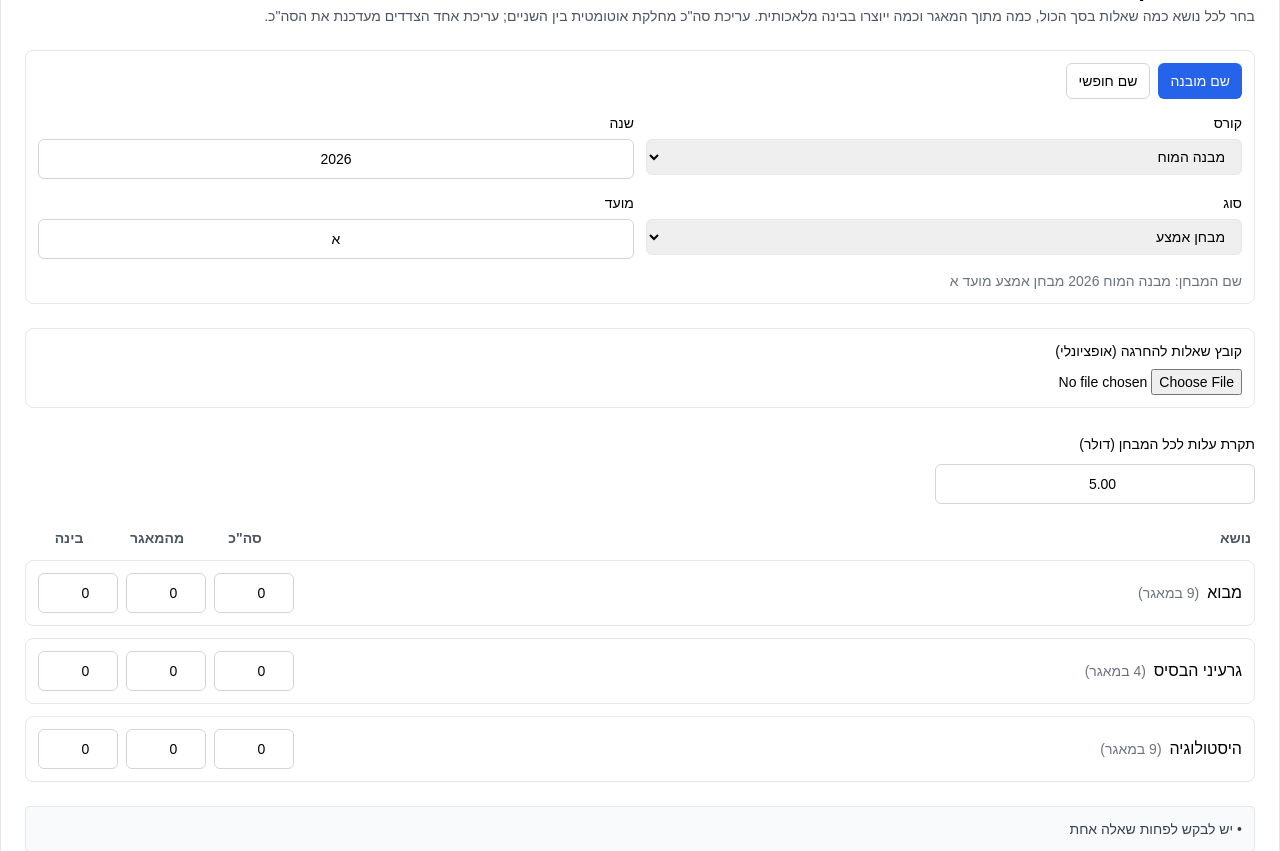
Test: builder › A over DB availability shows an inline error and blocks start (no silent clamp)
The image size is (1280, 851).
Replace the text in the number field named "שאלות מהמאגר עבור גרעיני הבסיס" with "9". click: (166, 671)
box: [126,651,206,691]
(page scrolled)
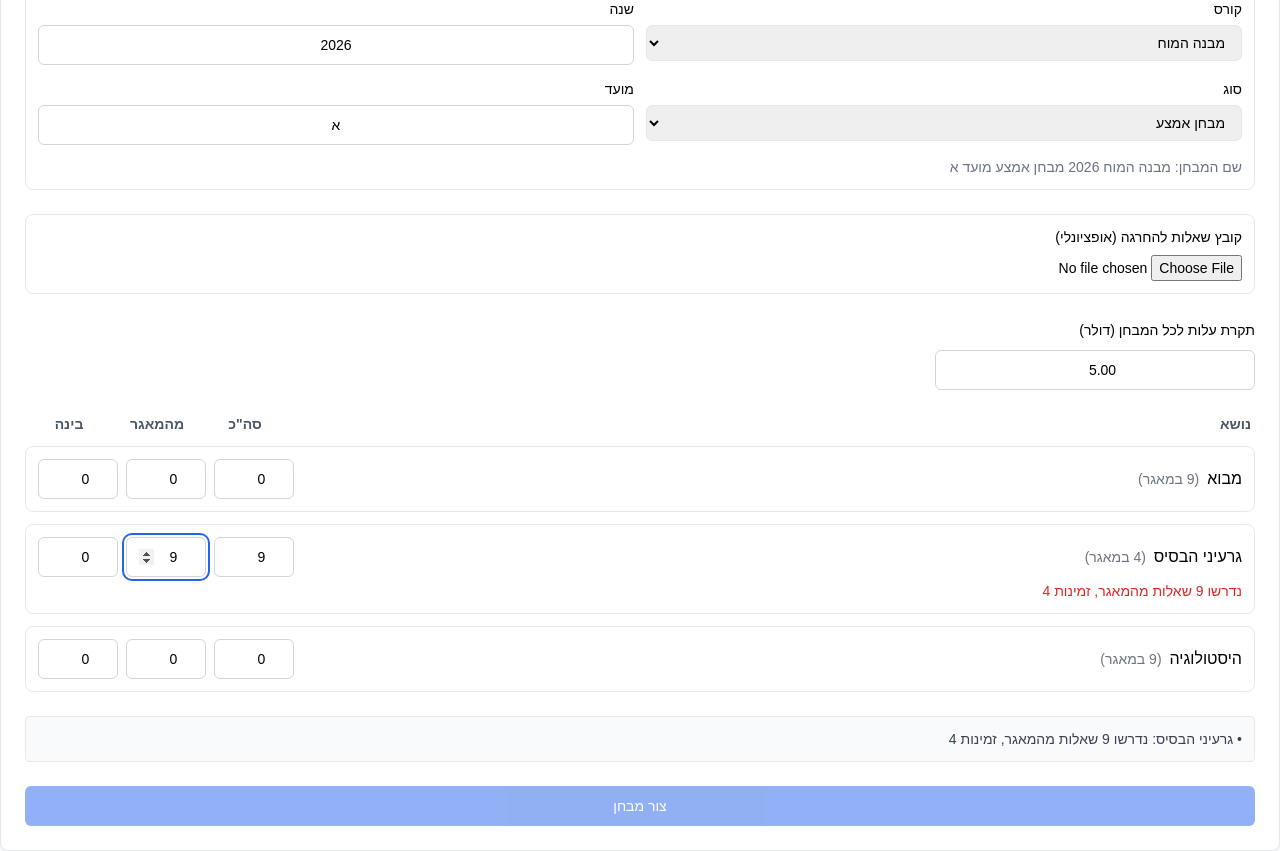
Expected: the button "צור מבחן" is disabled, [25,786,1255,826]
Expected: the message shows "זמינות 4", [1042,583,1242,599]
